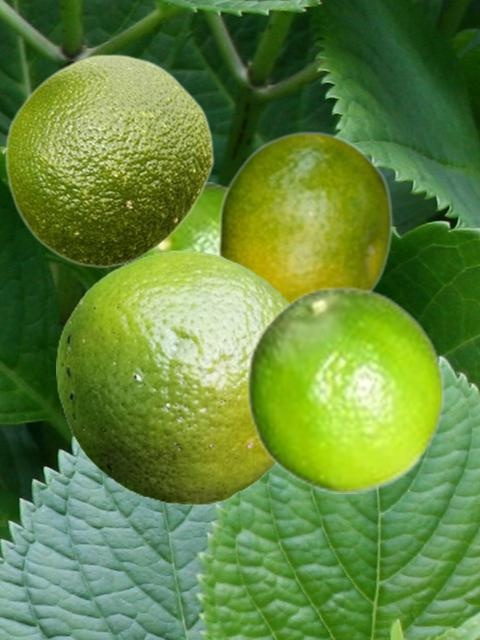calamansi: (56, 249, 290, 504), (4, 53, 213, 268), (246, 285, 445, 492), (214, 130, 392, 300), (151, 182, 227, 253)
